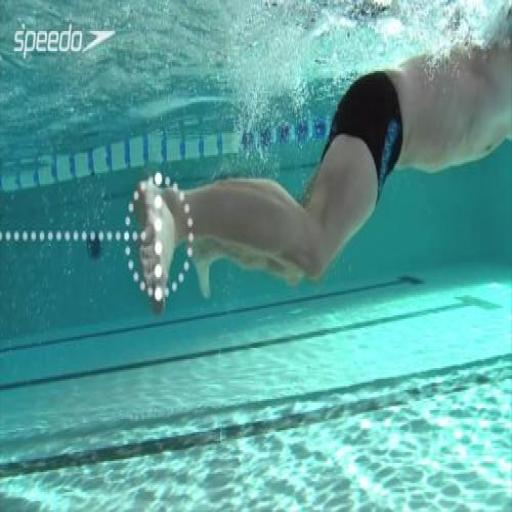swimming: (129, 2, 511, 315)
